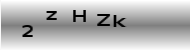2: (21, 24, 33, 37)
H: (71, 9, 86, 22)
Z: (95, 13, 110, 26)
k: (113, 14, 126, 27)
z: (45, 10, 57, 20)
